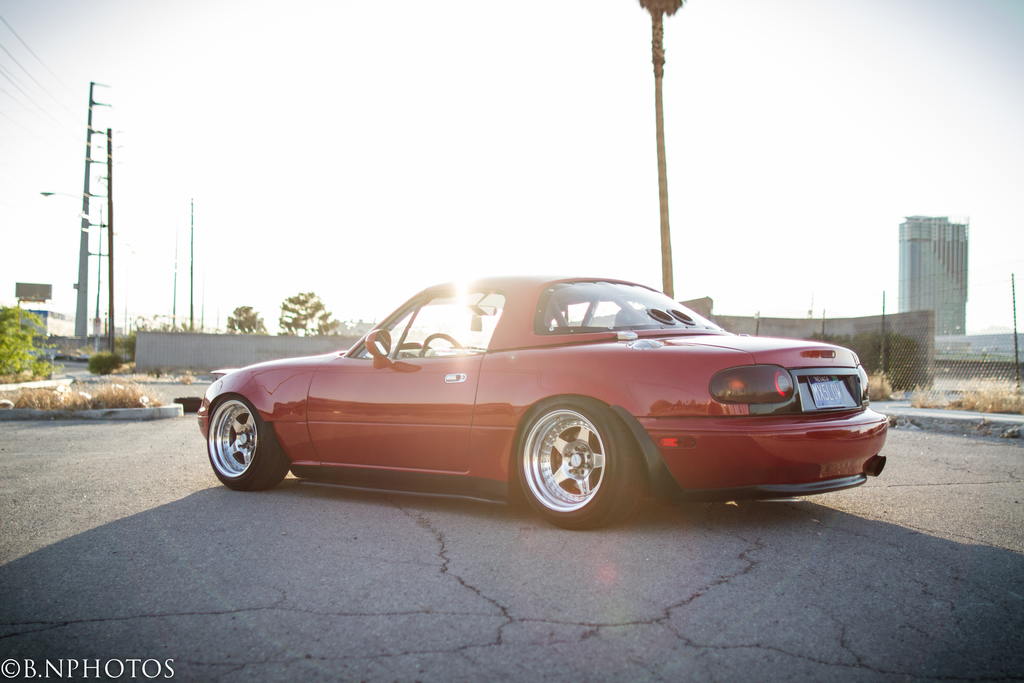Tree: (276, 291, 339, 337), (227, 304, 270, 338)
